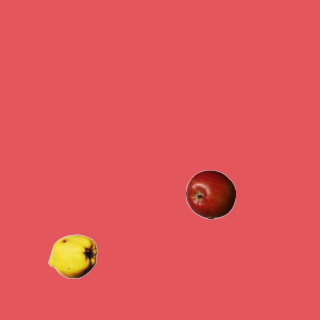Apple Braeburn: (185, 169, 235, 219)
Quince: (47, 231, 97, 281)
